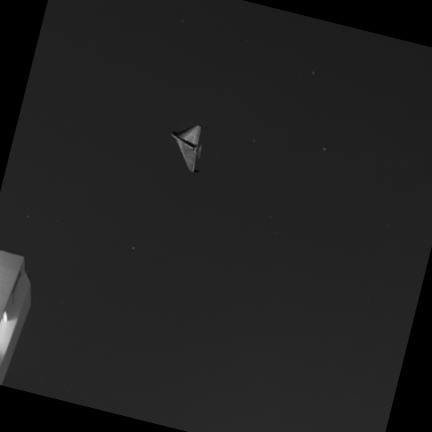Shahed: (172, 125, 205, 172)
